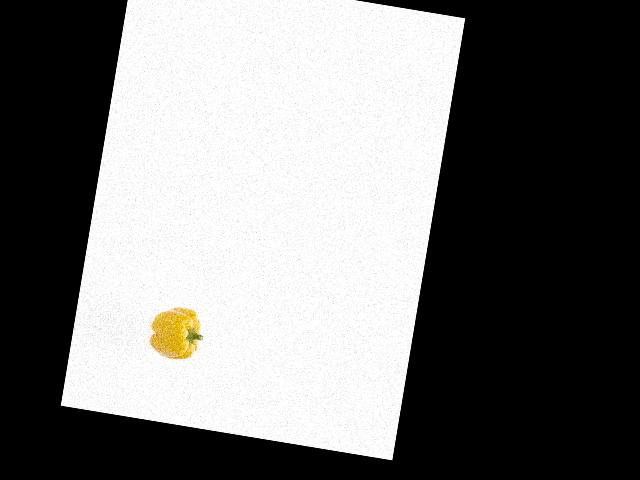bell_pepper: (145, 299, 210, 363)
